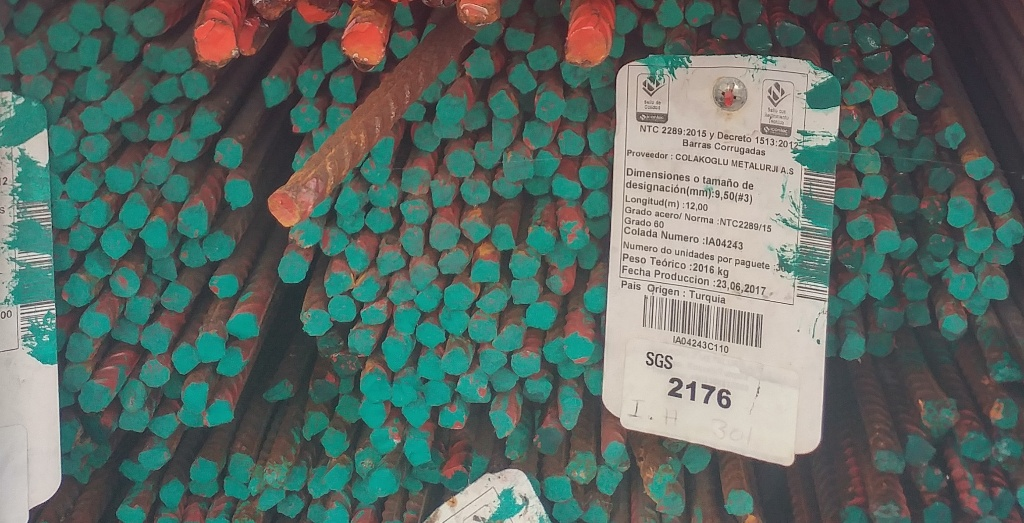dipstick: (346, 25, 382, 65), (196, 25, 236, 60), (569, 29, 605, 63), (236, 25, 270, 56), (905, 435, 937, 467), (566, 453, 596, 487), (506, 61, 537, 92), (361, 372, 392, 403), (63, 332, 95, 362), (361, 158, 394, 187), (268, 195, 298, 226), (111, 267, 141, 298), (79, 310, 111, 339), (922, 403, 956, 430), (80, 136, 114, 163), (490, 117, 520, 147), (988, 399, 1019, 428), (16, 45, 47, 74), (61, 275, 90, 306), (70, 4, 103, 31), (301, 411, 327, 445), (465, 49, 494, 79), (150, 257, 180, 286), (222, 179, 252, 208), (489, 90, 520, 118), (437, 94, 468, 122), (387, 276, 418, 304), (180, 384, 212, 411), (178, 208, 207, 237), (654, 487, 684, 515), (289, 106, 319, 134), (100, 230, 130, 258), (744, 26, 775, 53), (559, 221, 590, 248), (478, 289, 509, 316), (79, 385, 110, 412), (79, 107, 111, 133), (288, 222, 321, 247), (66, 175, 100, 199), (504, 152, 532, 181), (361, 399, 390, 427), (204, 232, 232, 261), (180, 72, 209, 100), (80, 200, 109, 228), (958, 243, 988, 270), (682, 447, 712, 474), (382, 339, 409, 369), (330, 72, 357, 102), (228, 315, 259, 341), (217, 141, 243, 172), (298, 1, 333, 24), (494, 174, 526, 199), (493, 327, 525, 352), (330, 350, 362, 375), (74, 74, 106, 99), (541, 476, 574, 500), (979, 275, 1007, 303), (879, 20, 907, 48), (462, 179, 490, 207), (535, 426, 563, 454), (467, 317, 495, 345), (440, 249, 468, 277), (996, 219, 1023, 248), (840, 276, 867, 305), (581, 192, 610, 219), (489, 407, 516, 436), (348, 327, 375, 356), (367, 470, 396, 497), (132, 9, 161, 36), (17, 76, 51, 99), (914, 83, 944, 109), (872, 85, 897, 116), (565, 332, 590, 363), (327, 297, 359, 321), (300, 311, 332, 335), (951, 272, 978, 300), (947, 198, 974, 226), (524, 122, 552, 149), (197, 333, 224, 361), (179, 239, 206, 267), (298, 69, 325, 97), (510, 251, 540, 276), (338, 394, 363, 424), (462, 4, 492, 29), (53, 200, 78, 230), (551, 501, 585, 523), (345, 244, 369, 275), (580, 166, 612, 189), (47, 26, 79, 49), (911, 468, 946, 489), (559, 397, 580, 432), (906, 54, 933, 81), (964, 434, 991, 461), (594, 467, 621, 494), (279, 255, 306, 282), (142, 156, 169, 183), (909, 27, 935, 55), (917, 249, 945, 275), (868, 330, 896, 356), (548, 241, 576, 267), (602, 442, 630, 468), (391, 307, 417, 335), (191, 459, 219, 485), (104, 5, 130, 33), (855, 25, 884, 50), (511, 352, 540, 377), (479, 348, 508, 373), (354, 277, 379, 306), (392, 376, 417, 405), (402, 439, 431, 464), (163, 47, 192, 72), (151, 77, 180, 102), (146, 111, 171, 140), (117, 204, 146, 229), (83, 414, 108, 443), (323, 273, 353, 297), (229, 454, 253, 484), (220, 350, 244, 380), (875, 451, 906, 474), (369, 185, 400, 208), (148, 325, 171, 356), (986, 190, 1013, 216), (840, 334, 866, 361), (996, 438, 1022, 465), (538, 94, 565, 120), (527, 227, 554, 253), (402, 169, 429, 195), (321, 430, 348, 456), (418, 457, 444, 484), (324, 106, 351, 132), (260, 78, 286, 105), (844, 80, 872, 105), (381, 247, 406, 275), (335, 189, 363, 214), (162, 283, 187, 311), (104, 93, 132, 118), (985, 244, 1014, 268), (775, 23, 804, 47), (506, 28, 535, 52), (434, 116, 463, 140), (471, 259, 500, 283), (507, 431, 531, 460), (401, 227, 425, 256), (712, 16, 742, 39), (445, 285, 475, 308), (254, 1, 292, 19), (365, 209, 396, 231), (919, 195, 945, 221), (727, 490, 753, 516), (564, 96, 590, 122), (534, 149, 560, 175), (528, 303, 554, 329), (69, 226, 95, 252), (124, 298, 150, 324), (937, 124, 964, 149), (879, 306, 904, 333), (965, 490, 990, 517), (612, 8, 639, 33), (586, 130, 613, 155), (414, 124, 439, 151), (430, 179, 457, 204), (964, 157, 992, 181), (559, 129, 583, 157), (490, 369, 518, 393), (322, 229, 346, 257), (322, 41, 346, 69), (191, 112, 219, 136), (84, 255, 112, 279), (891, 116, 920, 139), (992, 361, 1021, 384), (523, 378, 552, 401), (439, 407, 468, 430), (441, 350, 470, 373), (587, 64, 617, 86), (142, 42, 164, 72), (161, 479, 182, 510), (857, 120, 883, 145), (563, 61, 588, 87), (391, 30, 416, 56), (106, 168, 132, 193), (114, 320, 140, 345), (658, 1, 685, 25), (449, 151, 476, 175), (417, 323, 444, 347), (412, 264, 439, 288), (113, 34, 137, 61), (120, 383, 144, 410), (265, 381, 293, 404), (354, 450, 382, 473), (334, 214, 366, 234), (177, 408, 209, 428), (736, 1, 765, 23), (423, 383, 452, 405), (428, 223, 457, 245), (210, 275, 239, 297), (832, 1, 862, 22), (475, 142, 500, 167), (419, 353, 444, 378), (943, 315, 967, 341), (853, 148, 879, 172), (907, 302, 931, 328), (590, 87, 616, 111), (402, 201, 428, 225), (16, 4, 40, 30), (172, 135, 196, 161), (163, 178, 189, 202), (49, 126, 75, 150), (967, 228, 994, 251), (870, 274, 893, 301), (839, 242, 862, 269), (529, 47, 556, 70), (491, 223, 514, 250), (439, 309, 466, 332), (371, 428, 398, 451), (205, 402, 232, 425), (76, 38, 99, 65), (903, 277, 931, 299), (511, 280, 539, 302), (404, 403, 432, 425), (874, 505, 908, 523), (862, 52, 891, 73), (553, 177, 582, 198), (328, 373, 357, 394), (119, 459, 148, 480), (928, 235, 952, 260), (928, 167, 952, 192), (543, 339, 567, 364), (656, 457, 676, 487), (416, 289, 441, 313), (360, 308, 390, 328), (314, 333, 344, 353), (263, 464, 288, 488), (174, 346, 198, 371), (118, 412, 148, 432), (835, 187, 861, 210), (462, 219, 488, 242), (307, 474, 333, 497), (350, 477, 373, 503), (147, 221, 170, 247), (525, 177, 552, 199), (584, 286, 606, 313), (915, 137, 936, 165), (147, 361, 168, 389), (331, 2, 352, 30), (55, 52, 83, 73), (685, 3, 714, 23), (848, 215, 872, 239), (586, 217, 610, 241), (585, 367, 603, 399), (893, 147, 916, 172), (151, 416, 176, 439), (64, 366, 89, 389), (826, 22, 853, 43), (371, 138, 392, 165), (312, 380, 339, 401), (277, 497, 304, 518), (923, 503, 951, 523), (888, 195, 919, 213), (966, 292, 990, 315), (861, 175, 885, 198), (548, 271, 572, 294), (162, 376, 185, 400), (121, 120, 145, 143), (458, 377, 487, 396), (54, 244, 73, 273), (875, 229, 897, 254), (260, 489, 285, 511), (148, 447, 169, 473), (289, 25, 315, 46), (664, 39, 696, 56), (993, 490, 1012, 518), (476, 26, 504, 45), (583, 504, 611, 523), (464, 107, 487, 130), (292, 149, 315, 172), (831, 57, 853, 81), (224, 477, 248, 499), (61, 422, 78, 453), (559, 360, 584, 381), (840, 109, 860, 135), (444, 468, 470, 488), (328, 463, 347, 490), (187, 482, 219, 498), (47, 153, 79, 169), (48, 171, 65, 201), (114, 506, 144, 523), (642, 23, 665, 45), (400, 471, 424, 492), (395, 4, 416, 28), (87, 449, 111, 470), (576, 243, 596, 268), (322, 504, 347, 523), (826, 295, 841, 326), (879, 1, 908, 17), (532, 2, 561, 18), (896, 239, 917, 261), (310, 199, 333, 219), (421, 83, 442, 104), (313, 128, 335, 148), (863, 251, 882, 274), (284, 469, 307, 488), (789, 1, 818, 16), (436, 65, 460, 83), (841, 506, 866, 523), (61, 456, 82, 476), (44, 97, 59, 124), (836, 141, 852, 166), (1, 45, 15, 73), (879, 132, 896, 155), (403, 104, 426, 121), (304, 504, 324, 523), (500, 2, 525, 17), (610, 37, 627, 59), (587, 344, 604, 366), (825, 331, 838, 359), (250, 475, 265, 495)
